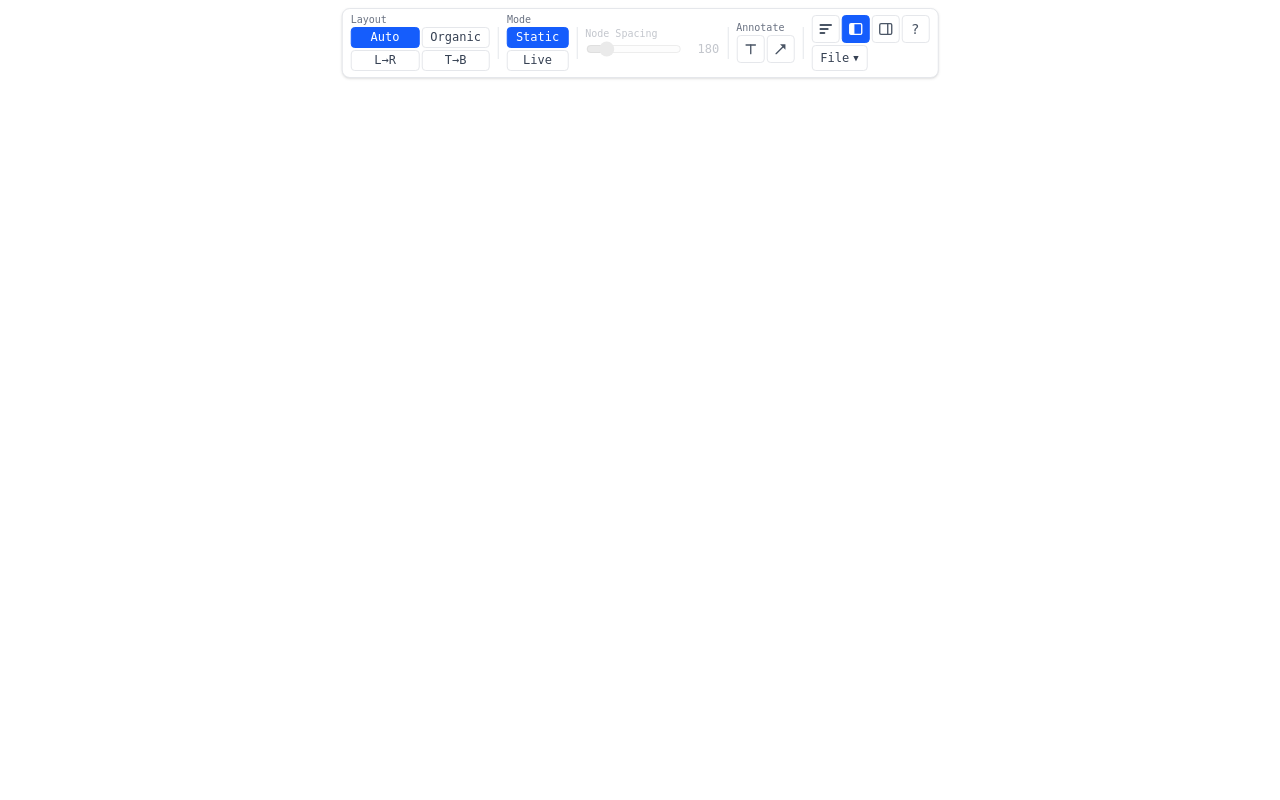
Test: Toolbar sort all: confirmation when a custom order exists › pluralises the count when several tables have a custom order
This screenshot has width=1280, height=800.
Click the button named "Sort all tables by type".
click(825, 29)  # box [811,15,839,43]
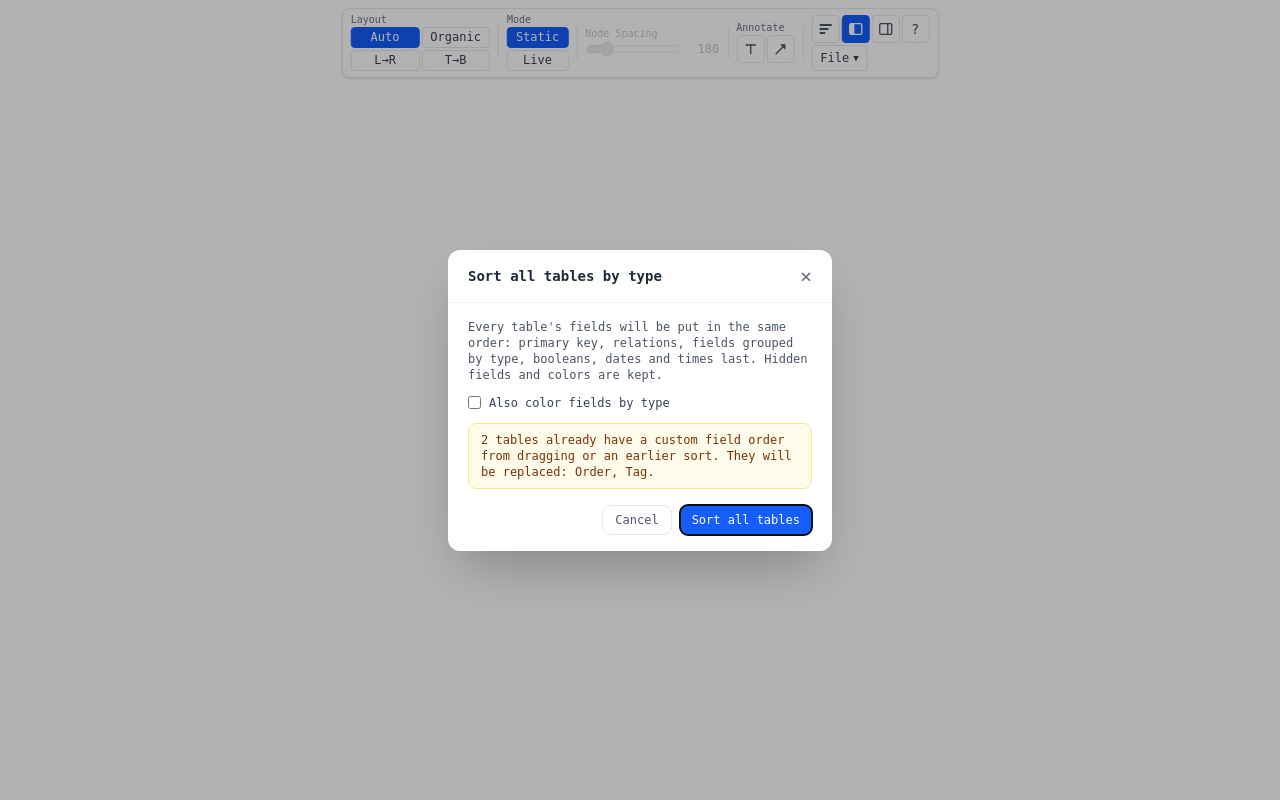
Expected: the dialog shows "2 tables already have a custom field order", [481,432,784,446]
